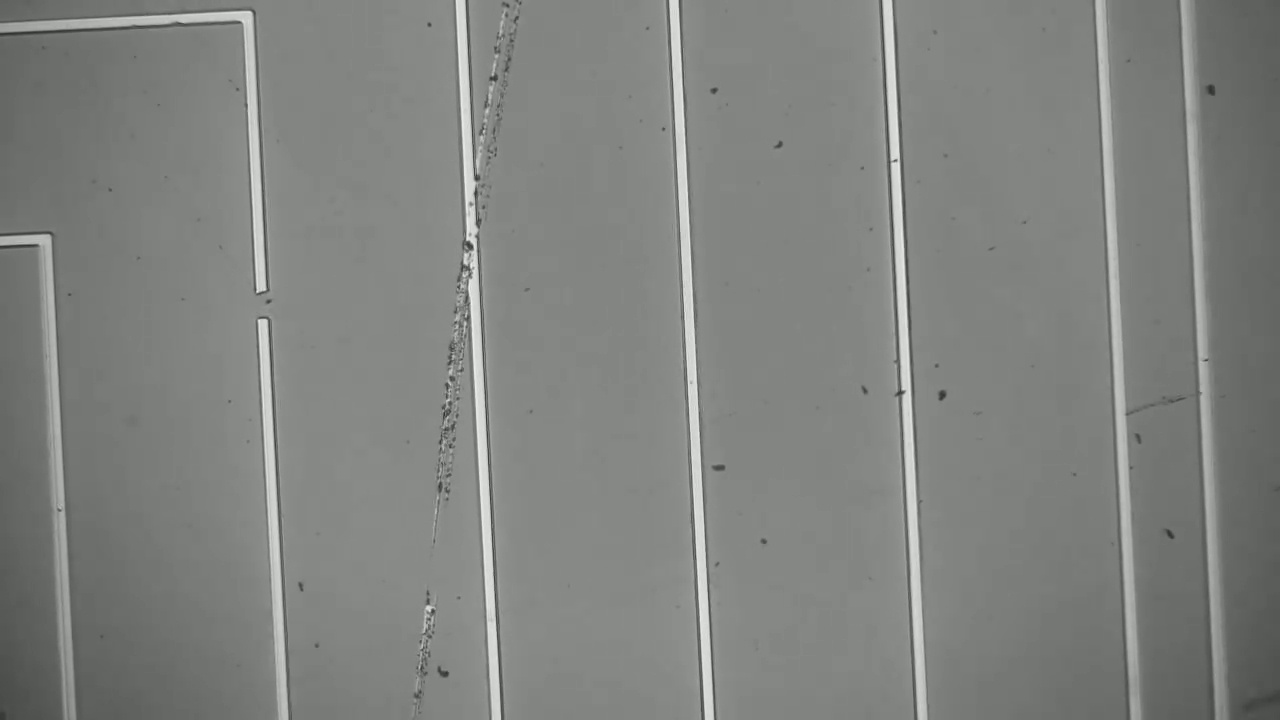open: (240, 274, 285, 346)
scratch: (405, 0, 526, 714), (1124, 380, 1200, 438)
